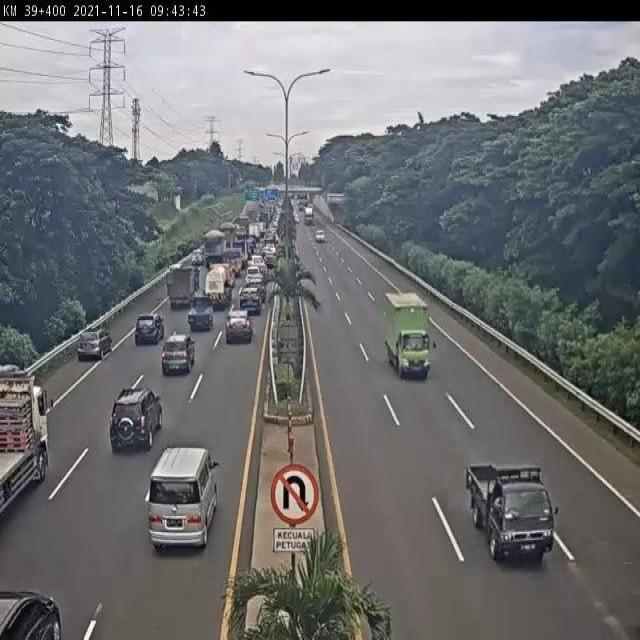Car: (109, 385, 162, 452), (160, 333, 197, 375), (77, 328, 112, 362), (134, 313, 164, 345), (225, 310, 253, 344), (238, 283, 263, 314), (315, 230, 326, 242), (299, 203, 305, 212)
Truck: (462, 459, 561, 568), (0, 368, 52, 516), (384, 290, 431, 380), (204, 265, 232, 311), (165, 266, 193, 310), (187, 296, 215, 331), (304, 206, 314, 225)
Van: (144, 446, 218, 548)
